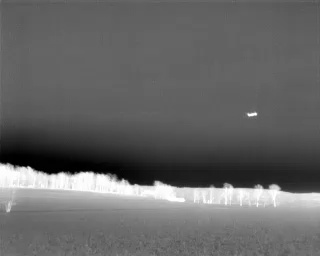DRONE: (243, 107, 262, 122)
